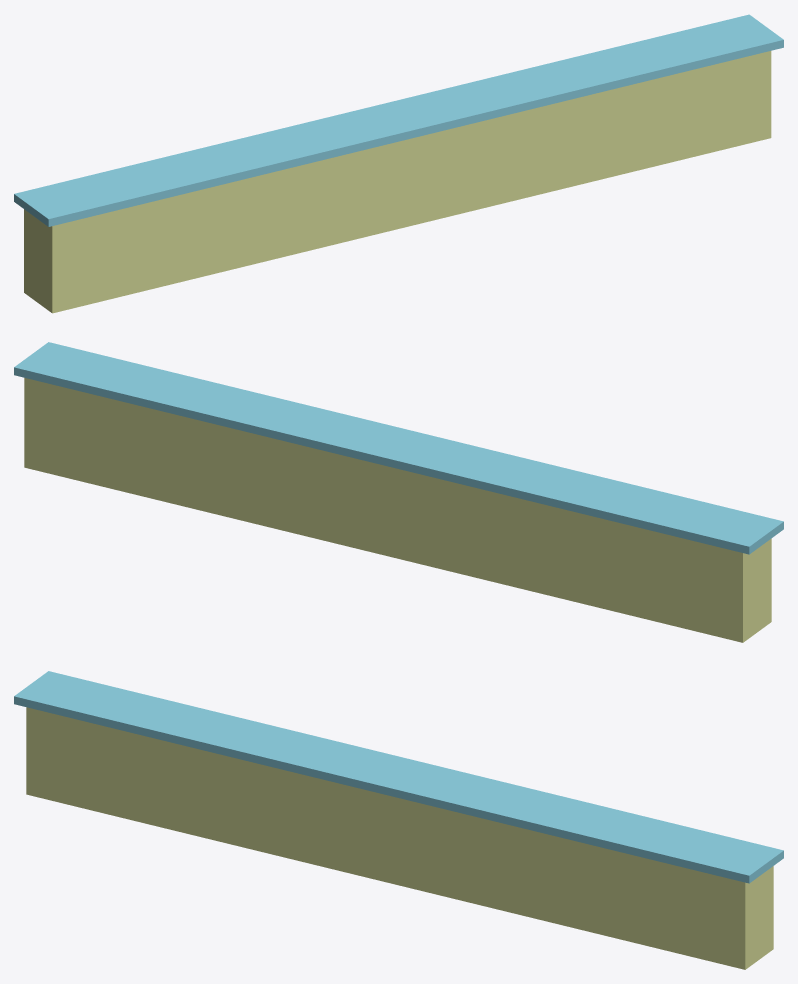
File: counter1.fbx
The picture shows the model from 3 angles, top to bottom: view 1: azimuth 30°, elevation 25°; view 2: azimuth 150°, elevation 25°; view 3: azimuth 330°, elevation 25°; orthographic projection.
Visible parts, largest first — view 1: counter, countertop; view 2: counter, countertop; view 3: counter, countertop.
Boxes of the visible parts, box(x1,y1,x2,y2) form: counter: box(24, 51, 771, 313); countertop: box(14, 14, 783, 226); counter: box(24, 378, 771, 642); countertop: box(14, 342, 783, 554); counter: box(26, 707, 773, 969); countertop: box(14, 671, 783, 883).
Bounding box in the file's own units: 3354 × 433 × 273.
